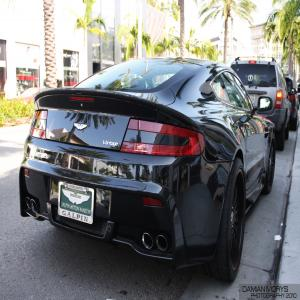Vehicle-registration-plate: (59, 182, 95, 227), (250, 95, 255, 105)
